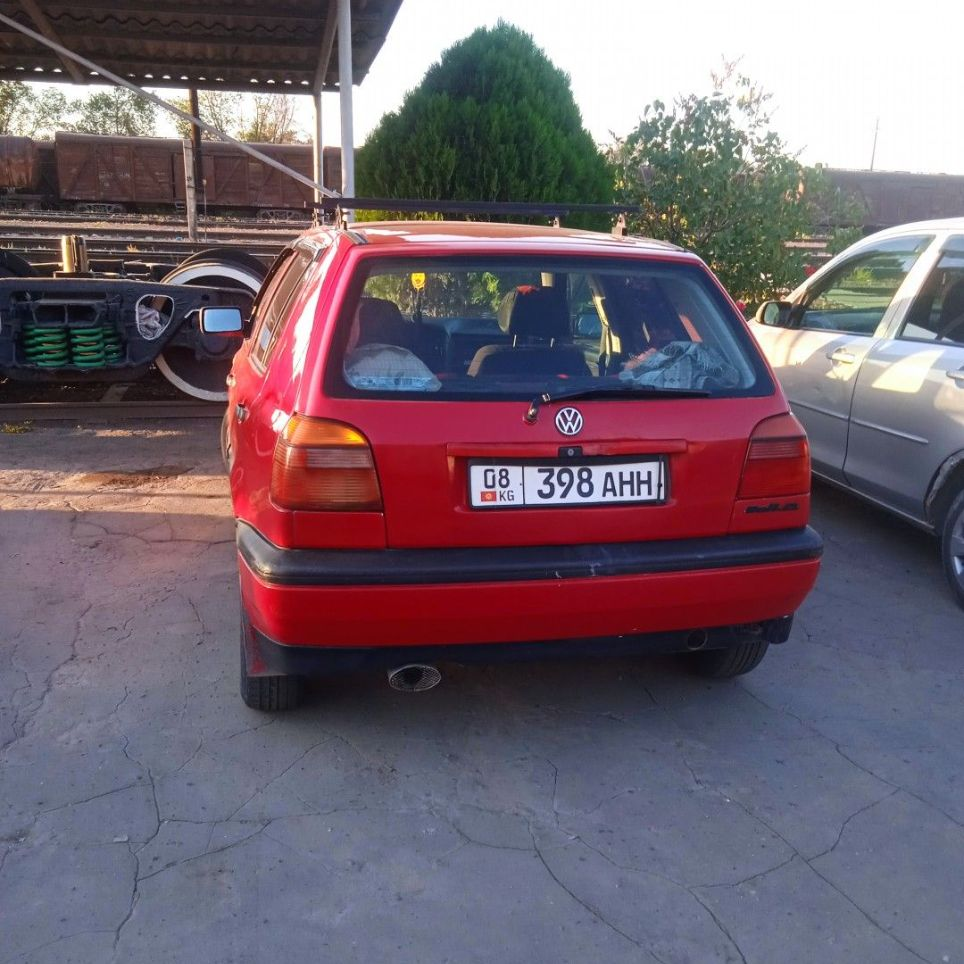license plate: (471, 460, 670, 506)
truck: (237, 214, 818, 718)
